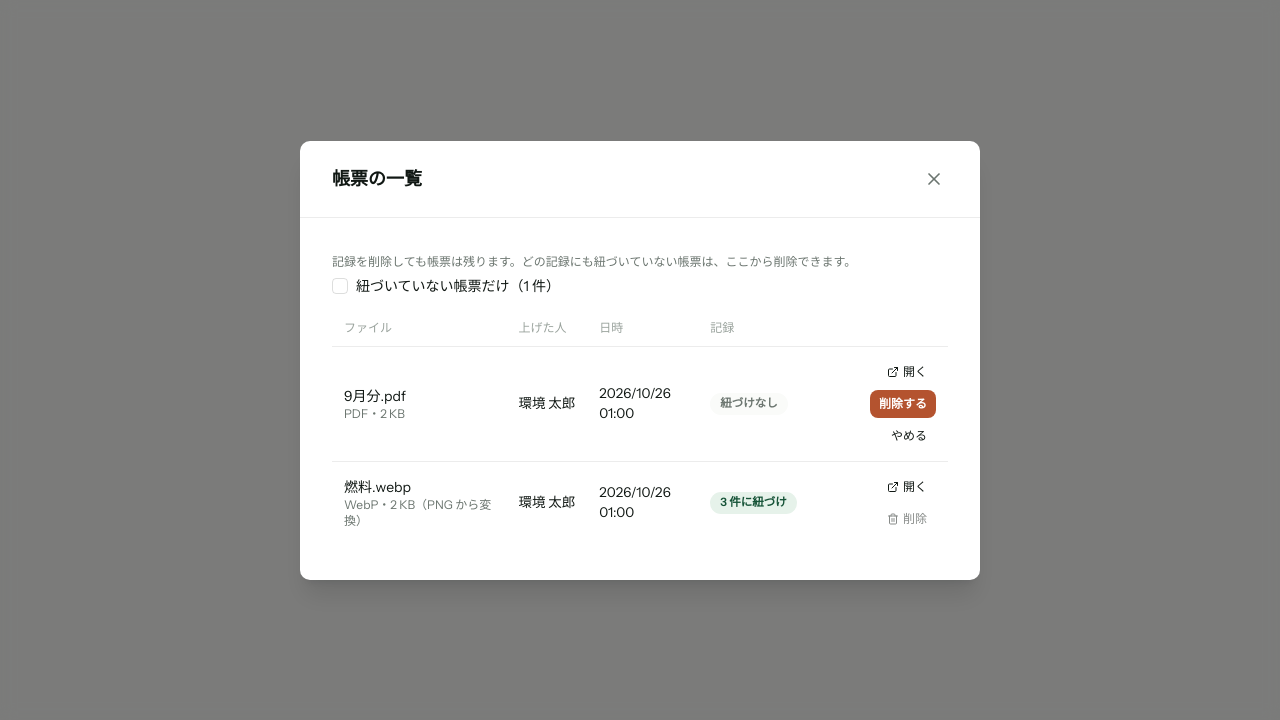
it: EvidenceListModal › 紐づいていない帳票は、もう一度「削除する」を押したときだけ消し、一覧から外す
This screenshot has width=1280, height=720.
Click the button "削除する".
click(903, 404)  # box [870,390,936,418]
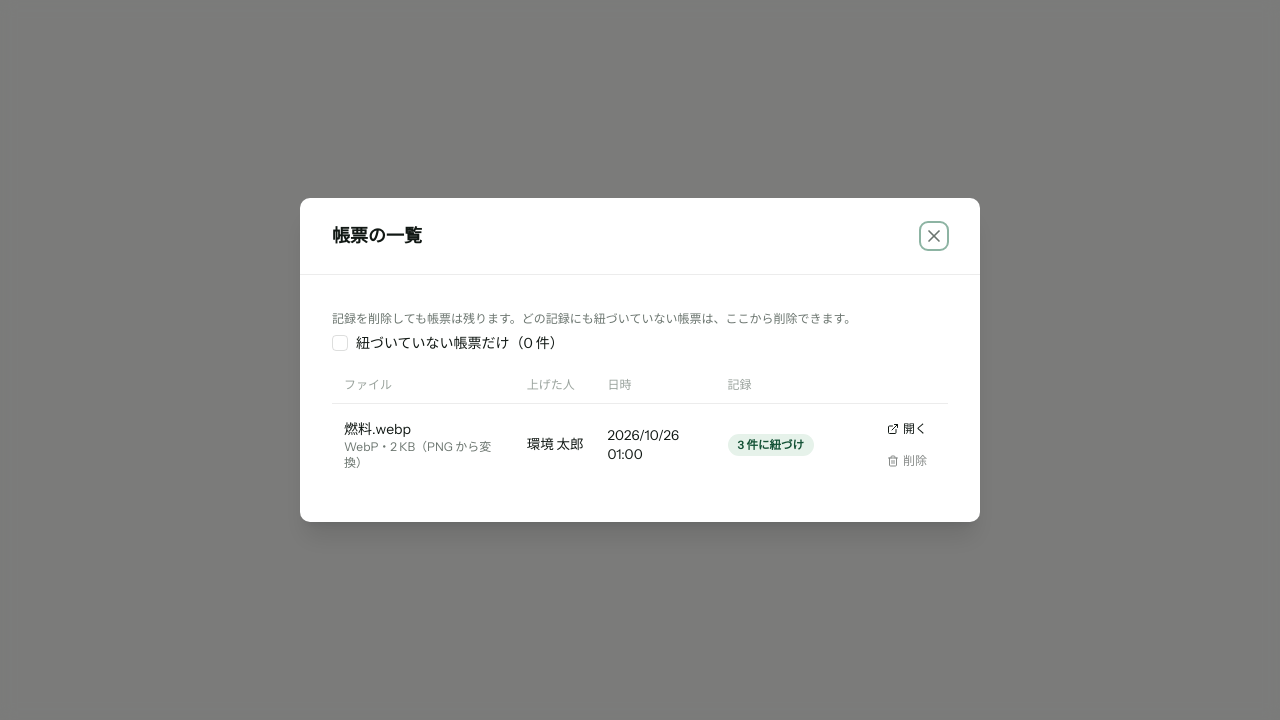
Check: the text "9月分.pdf" is gone
